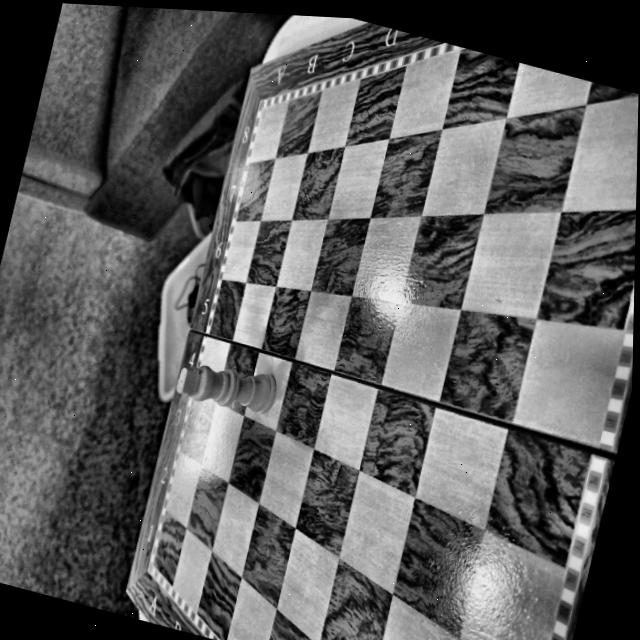white-king: (174, 365, 274, 413)
